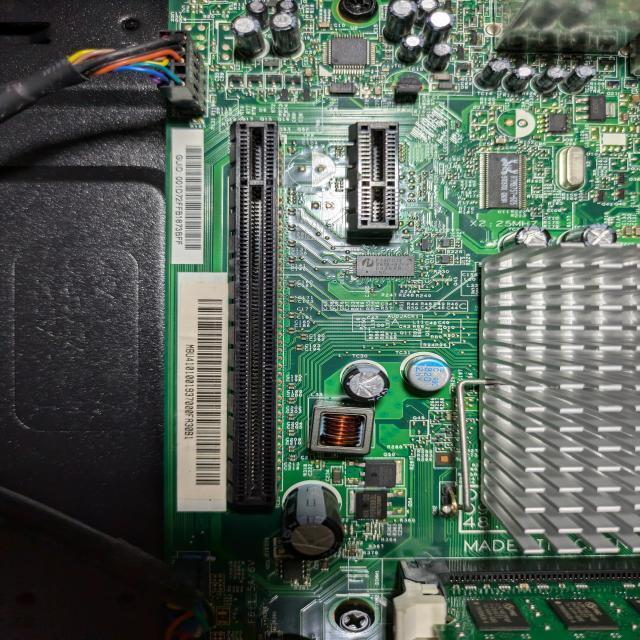Mainboard: (166, 0, 640, 640)
RAM: (433, 581, 640, 640)
